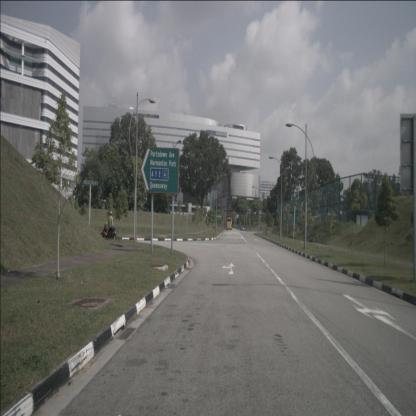human-pedestrian-adult: (108, 211, 113, 239)
vehicle-bus-rigid: (227, 217, 232, 230)
vehicle-car: (240, 224, 245, 231)
vehicle-motorcycle: (101, 222, 116, 240)
